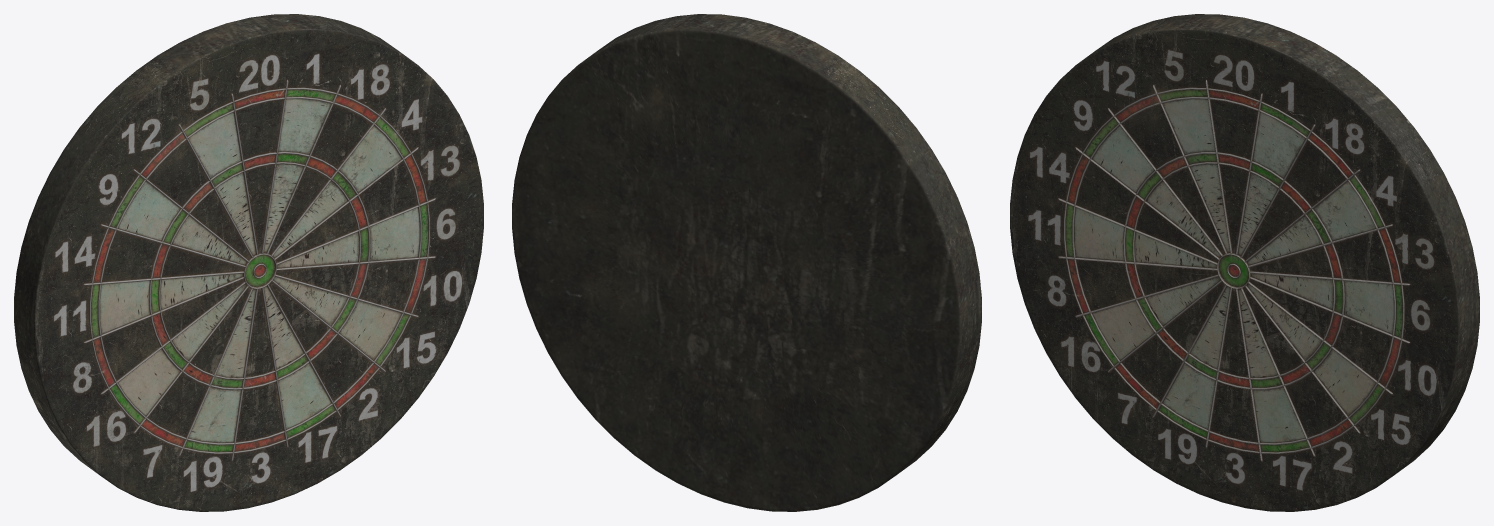
File: dartboard.glb
The picture shows the model from 3 angles, left to right: view 1: azimuth 30°, elevation 25°; view 2: azimuth 150°, elevation 25°; view 3: azimuth 330°, elevation 25°; orthographic projection.
Parts seen in each view (by area): view 1: dartboard; view 2: dartboard; view 3: dartboard.
Boxes of the visible parts, x1,y1,x2,y2 form: dartboard: (14, 14, 483, 511); dartboard: (512, 14, 981, 511); dartboard: (1010, 14, 1479, 511).
Bounding box in the file's own units: 0.4507 × 0.4507 × 0.0398.
Materials: 1 (1 with a texture image).
